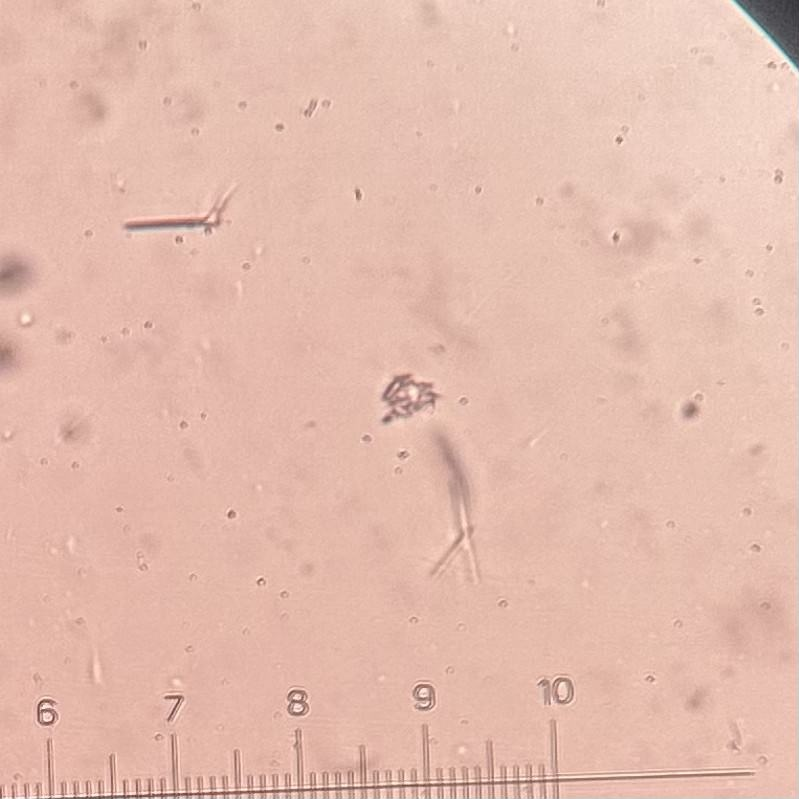microplastic: (428, 435, 484, 589), (121, 184, 238, 231), (374, 367, 444, 423)
